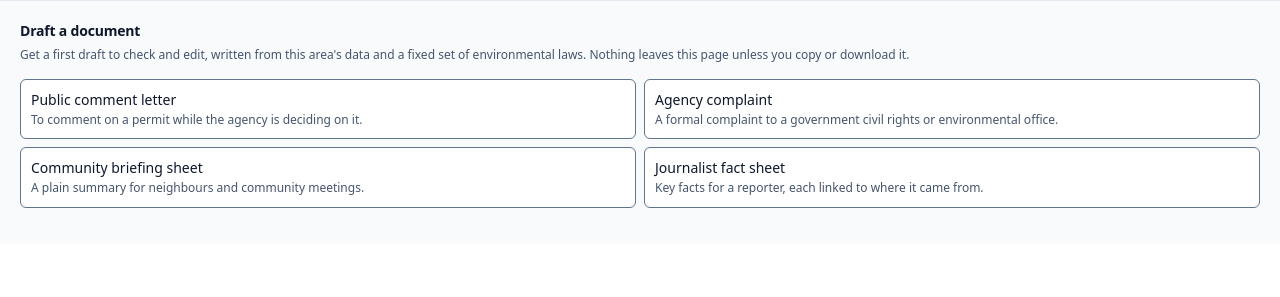
Test: failures read as answers › renders the sentence the API wrote rather than inventing one
This screenshot has width=1280, height=297.
What coordinates should you click on to do the following:
click the text "Public comment letter"
I would click on:
 (104, 99)
Its box is top-left (31, 90), bottom-right (176, 108).
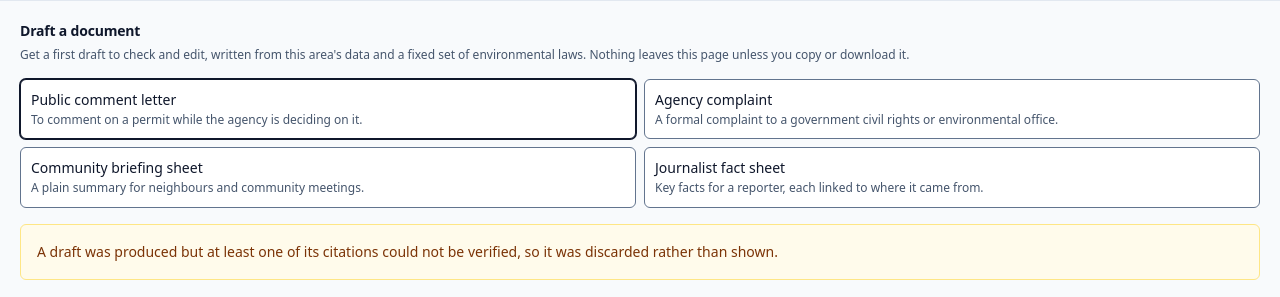
Expected: the text "discarded rather than shown" is shown, top-left (37, 242), bottom-right (778, 260)
